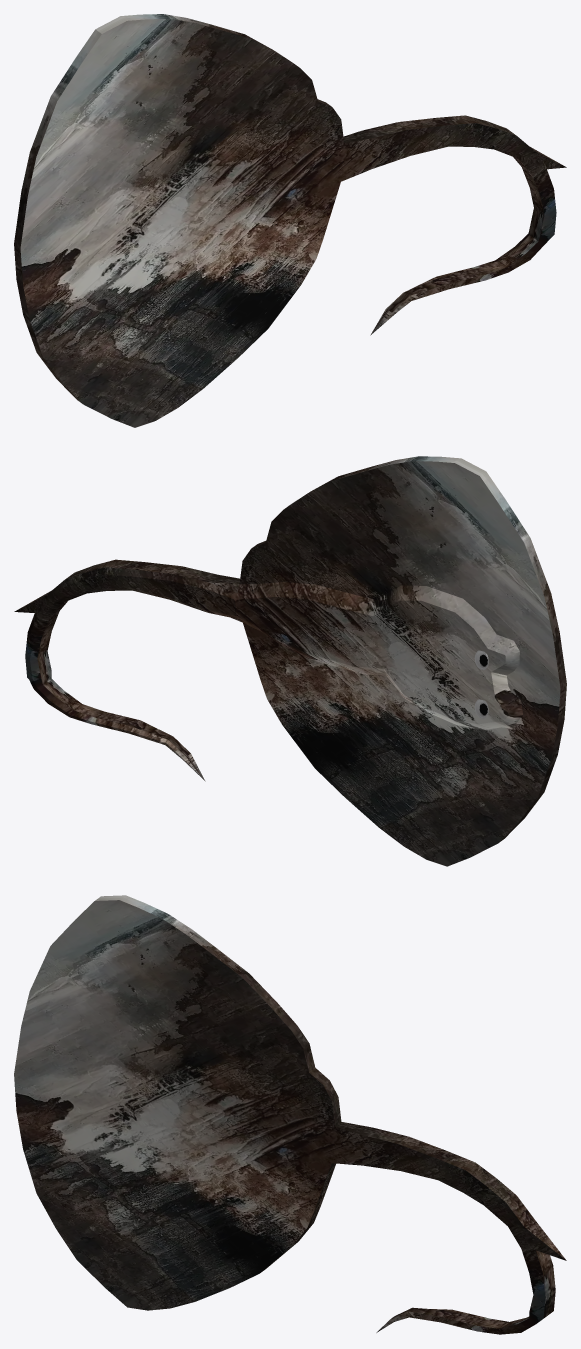
Rendered from Ray Obscur.fbx.
The picture shows the model from 3 angles, top to bottom: view 1: azimuth 30°, elevation 25°; view 2: azimuth 150°, elevation 25°; view 3: azimuth 330°, elevation 25°; orthographic projection.
Visible parts, largest first — view 1: Plane.006; view 2: Plane.006; view 3: Plane.006.
Boxes of the visible parts, bbox=[...] form: Plane.006: bbox=[14, 14, 566, 427]; Plane.006: bbox=[14, 456, 566, 866]; Plane.006: bbox=[14, 895, 566, 1334].
Size of the model in its own units: 172 by 122 by 7.77.
